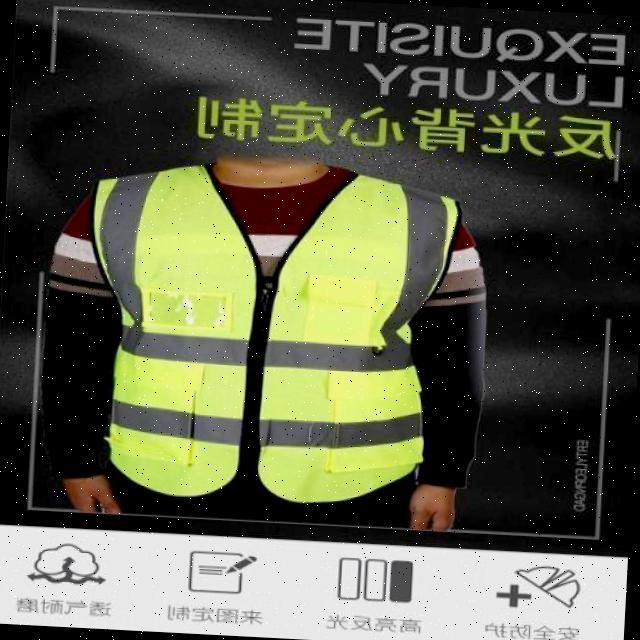vest: (79, 168, 455, 508)
